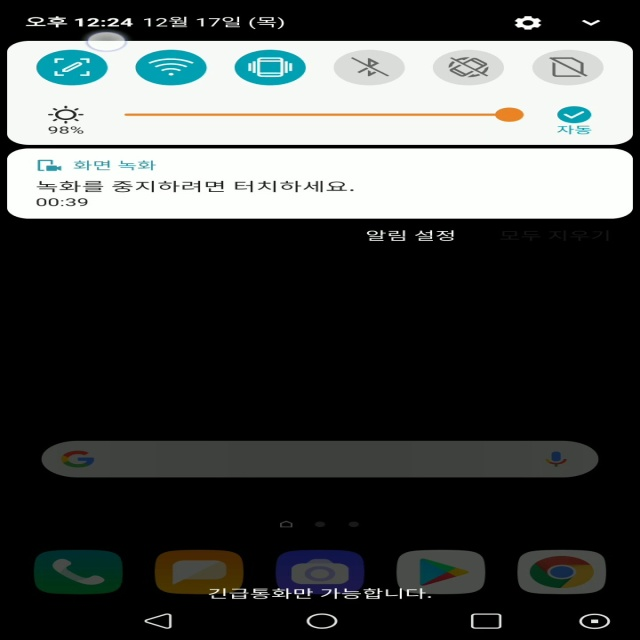Cursor: (85, 30, 129, 53)
